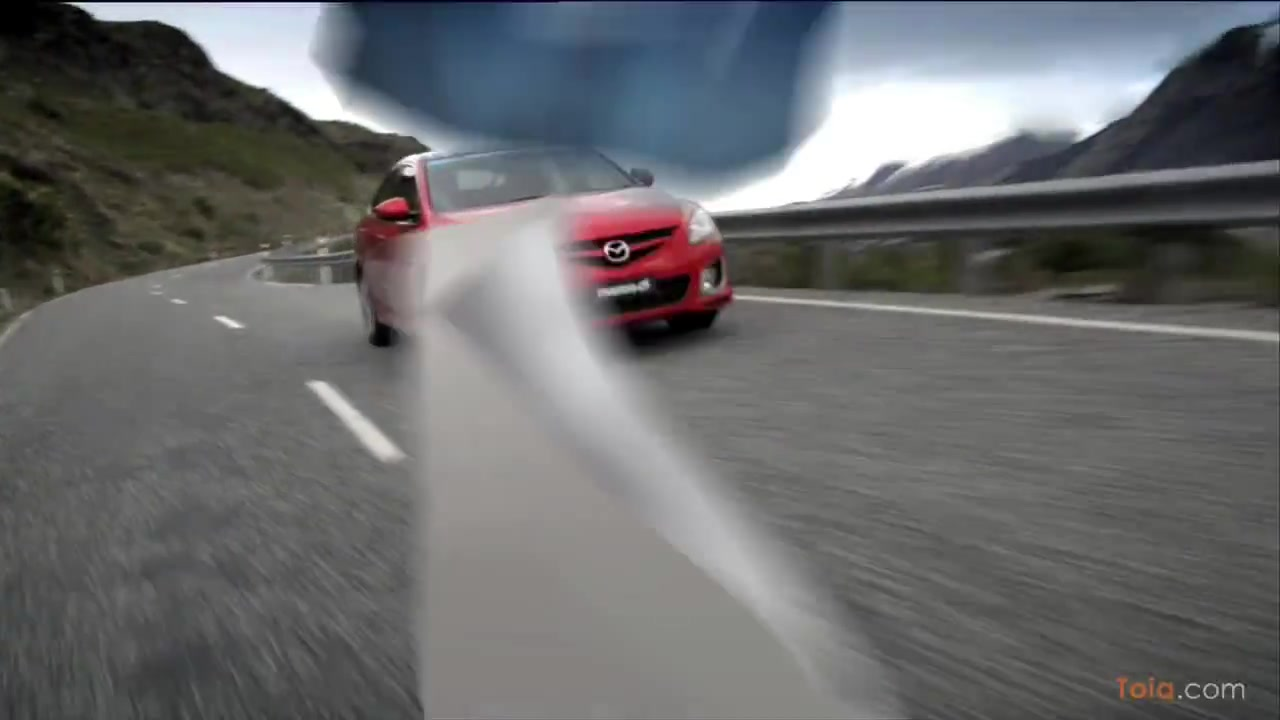car: (355, 135, 738, 360)
